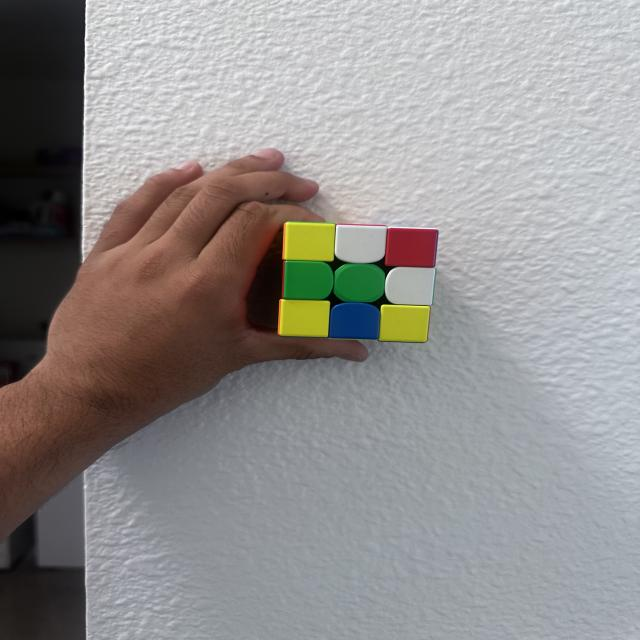sticker: (280, 218, 337, 265), (383, 225, 441, 270), (280, 258, 336, 302), (333, 222, 389, 266), (276, 298, 332, 338), (333, 262, 386, 304), (377, 304, 431, 344), (383, 266, 437, 306), (328, 302, 381, 341)
